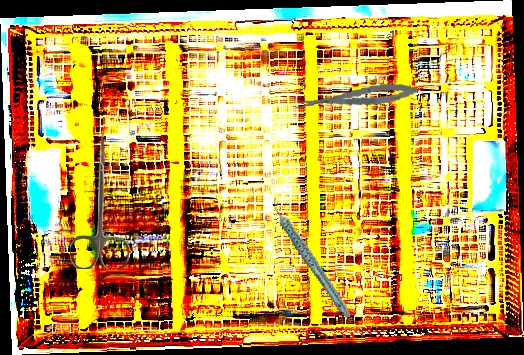Handpiece: (270, 186, 353, 329)
Iris Scissors: (70, 134, 129, 269)
Micro Scissor: (294, 79, 419, 114)
